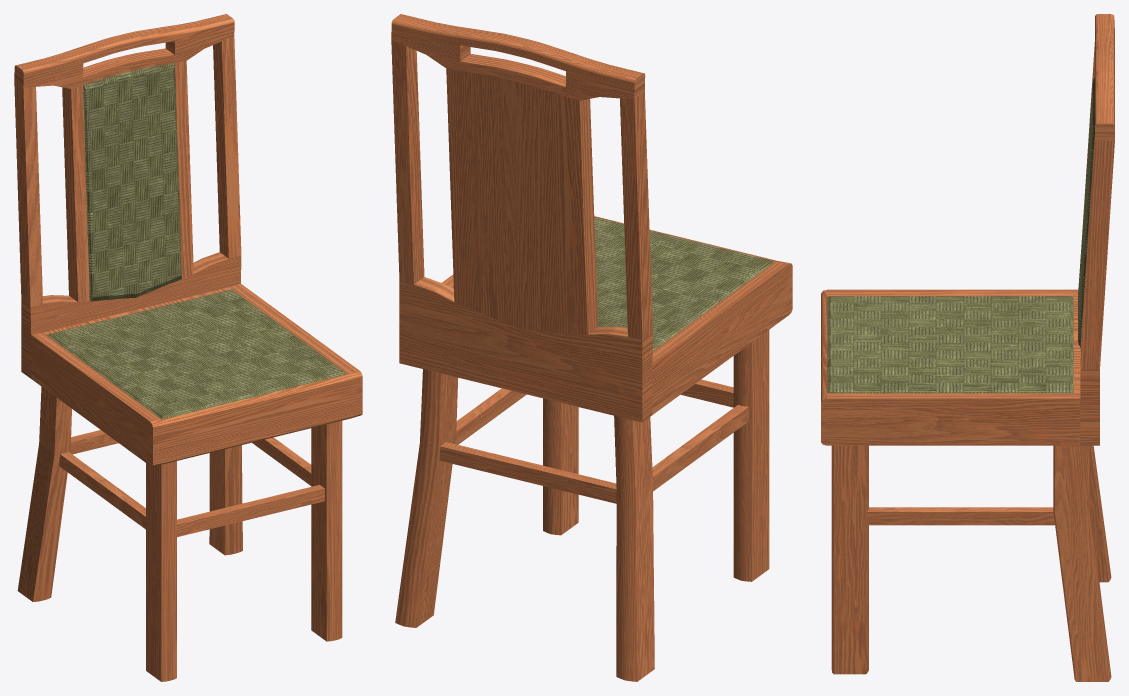
Rendered from Chair 002.fbx.
The picture shows the model from 3 angles, left to right: view 1: azimuth 30°, elevation 25°; view 2: azimuth 150°, elevation 25°; view 3: azimuth 270°, elevation 25°; orthographic projection. The views are drawn at different scales.
Visible parts, largest first — view 1: Cube.006; view 2: Cube.006; view 3: Cube.006.
Boxes of the visible parts, x1,y1,x2,y2 form: Cube.006: (14, 14, 362, 681); Cube.006: (391, 14, 792, 681); Cube.006: (821, 14, 1114, 681).
Bounding box in the file's own units: 40 × 95.94 × 45.34.
